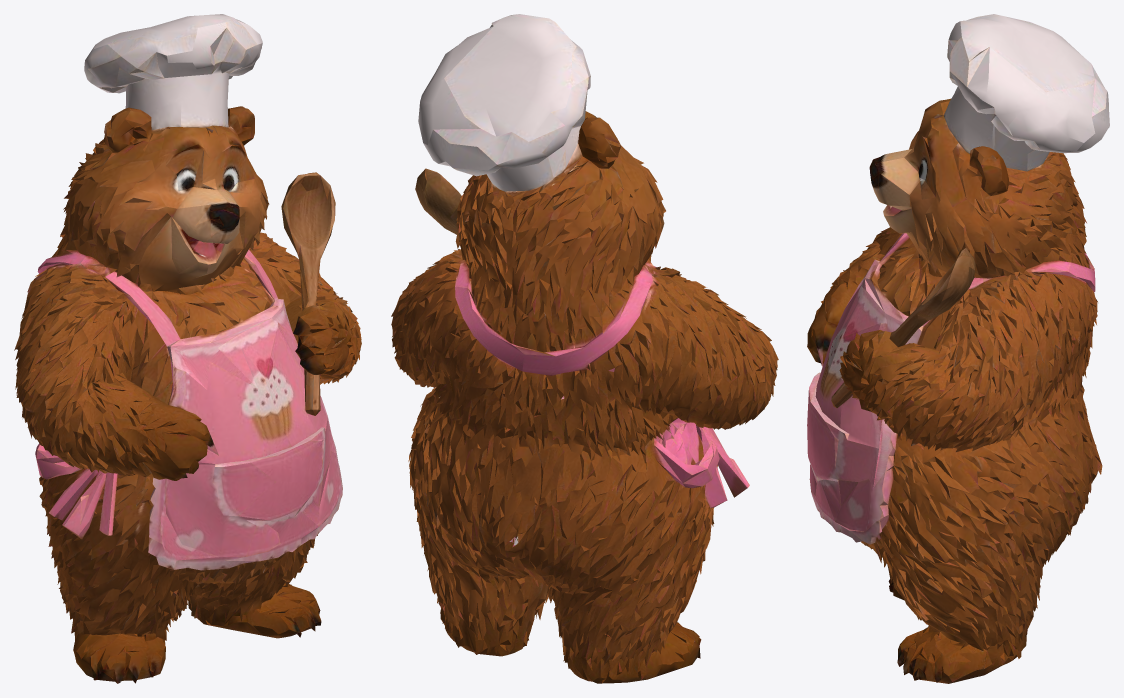
Rendered from honey.glb.
The picture shows the model from 3 angles, left to right: view 1: azimuth 30°, elevation 25°; view 2: azimuth 150°, elevation 25°; view 3: azimuth 270°, elevation 25°; orthographic projection. The views are drawn at different scales.
Size of the model in its own units: 1.09 by 1.9 by 0.8498.
1 material, 1 textured.
